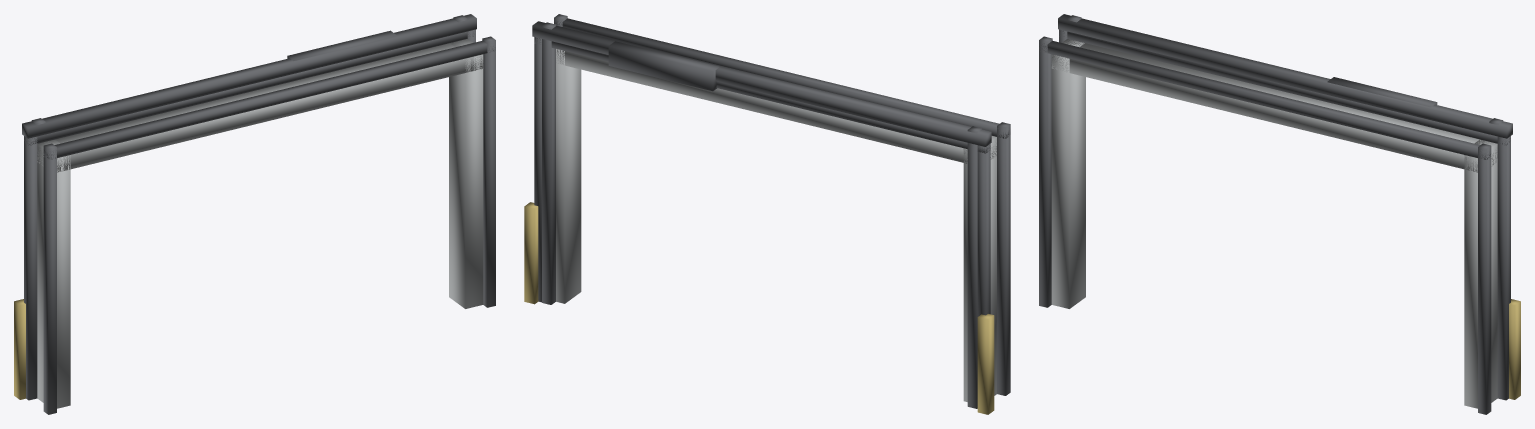
The model's file is bay_opening_service_bay_w420_h240_d30.glb.
3 renders of one model, left to right at view 1: azimuth 30°, elevation 25°; view 2: azimuth 150°, elevation 25°; view 3: azimuth 330°, elevation 25°, orthographic.
Visible parts, largest first — view 1: world; view 2: world; view 3: world.
Boxes of the visible parts, x1,y1,x2,y2 form: world: (14, 14, 495, 414); world: (524, 14, 1010, 414); world: (1039, 14, 1520, 414).
Size of the model in its own units: 4.89 by 2.79 by 0.522.
